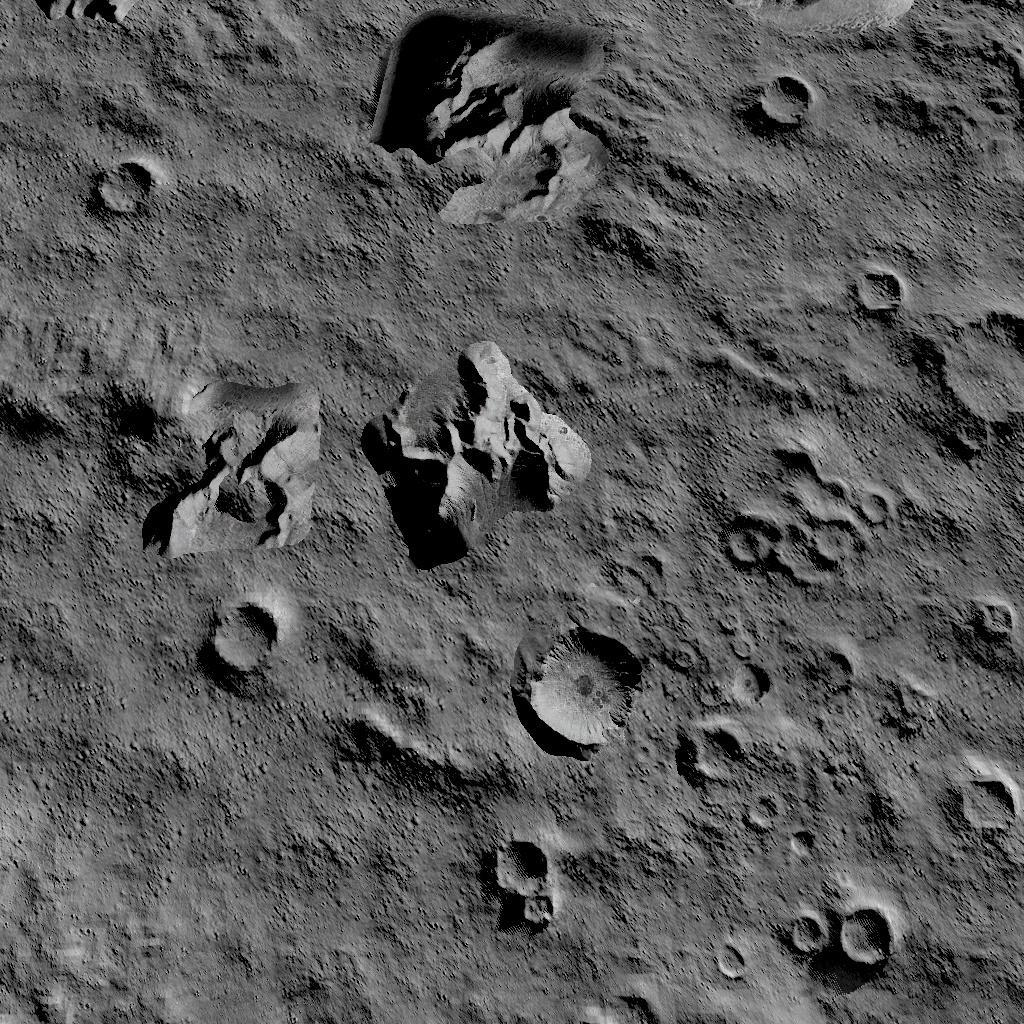Boulders: (0, 310, 318, 566), (348, 338, 602, 580), (360, 14, 626, 244), (337, 696, 505, 807), (0, 0, 154, 48)
Crater: (702, 430, 892, 606), (510, 627, 656, 767), (919, 314, 1024, 460), (678, 672, 784, 799), (708, 0, 922, 56), (773, 902, 897, 988), (477, 838, 577, 944), (196, 598, 296, 700), (938, 758, 1024, 870), (84, 162, 168, 237), (741, 68, 814, 154), (952, 584, 1024, 654), (844, 268, 898, 325)
Plan surface: (0, 578, 184, 1024), (193, 818, 465, 1024)
